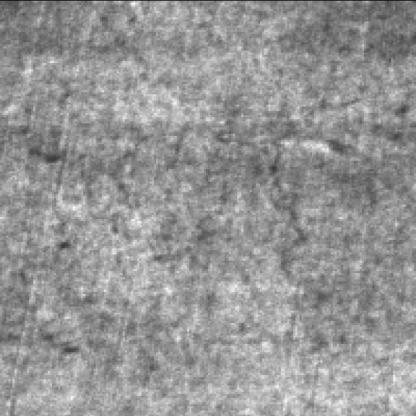crazing: (23, 119, 308, 268)
